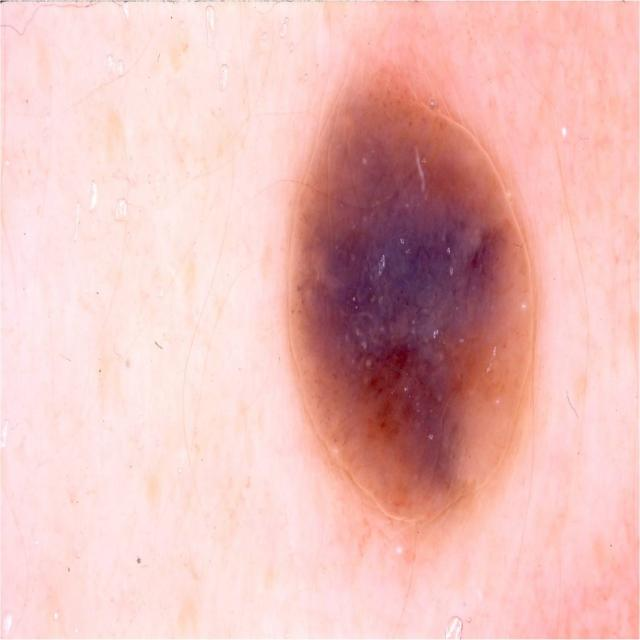Benign: (278, 59, 544, 550)
